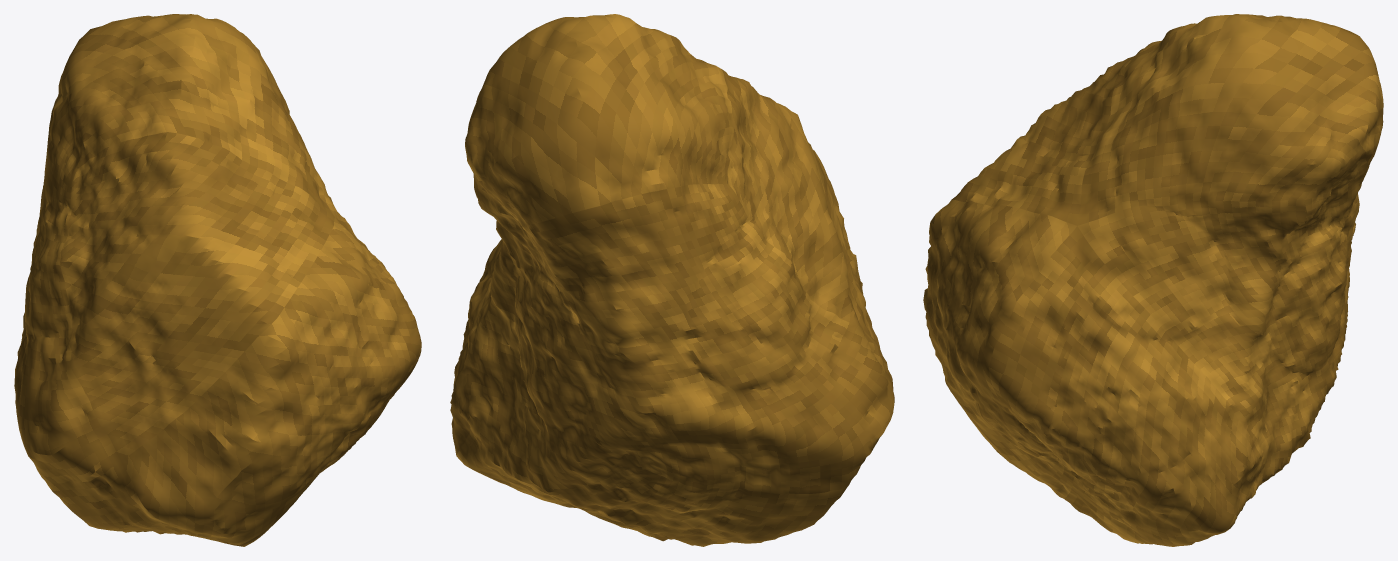
Rendered from rock1.glb.
3 views of the same model, side by side, from view 1: azimuth 30°, elevation 25°; view 2: azimuth 150°, elevation 25°; view 3: azimuth 270°, elevation 25° (orthographic). The views are drawn at different scales.
Parts seen in each view (by area): view 1: rock; view 2: rock; view 3: rock.
Boxes of the visible parts, <box> form: rock: <box>14,14,421,546</box>; rock: <box>450,14,894,546</box>; rock: <box>923,14,1383,546</box>.
Bounding box in the file's own units: 0.9915 × 1.32 × 1.06.
Materials: 1 (1 with a texture image).
